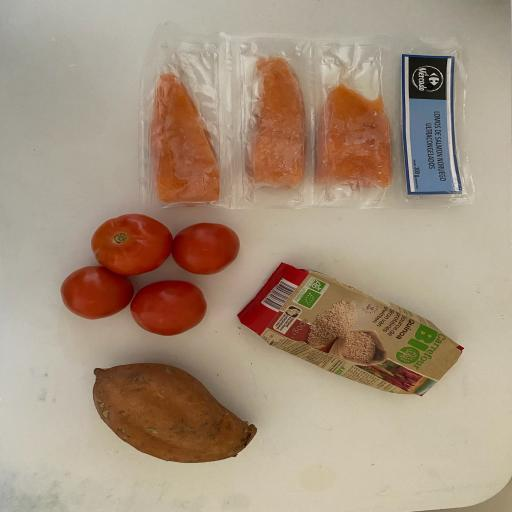quinoa: (234, 260, 468, 401)
salmon: (146, 67, 228, 207), (310, 80, 396, 193), (242, 55, 312, 190)
sweet_potato: (87, 358, 258, 466)
tomato: (88, 209, 176, 278), (128, 275, 210, 339), (58, 264, 134, 324), (169, 218, 245, 276)
